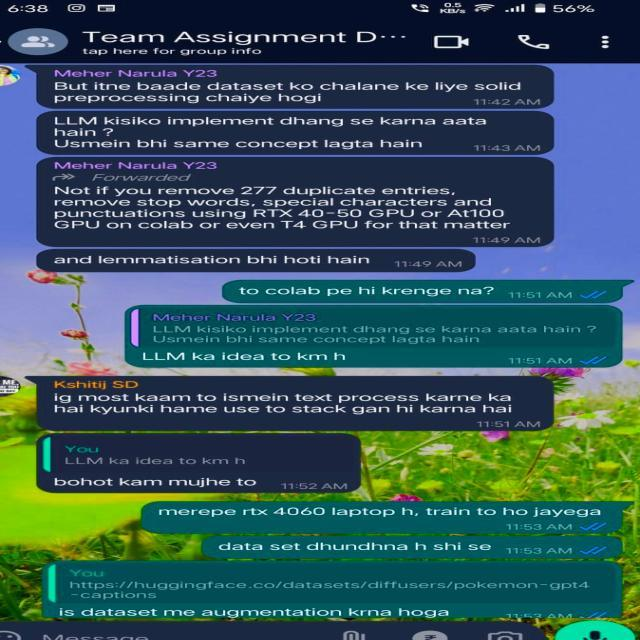scam: (39, 186, 552, 246), (33, 376, 556, 431), (37, 110, 558, 156), (41, 434, 363, 494), (40, 78, 558, 108), (38, 249, 479, 274)
